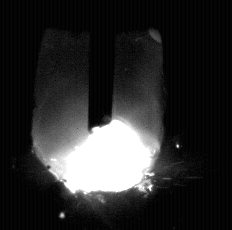arame: (89, 0, 114, 134)
poca: (32, 0, 165, 230)
